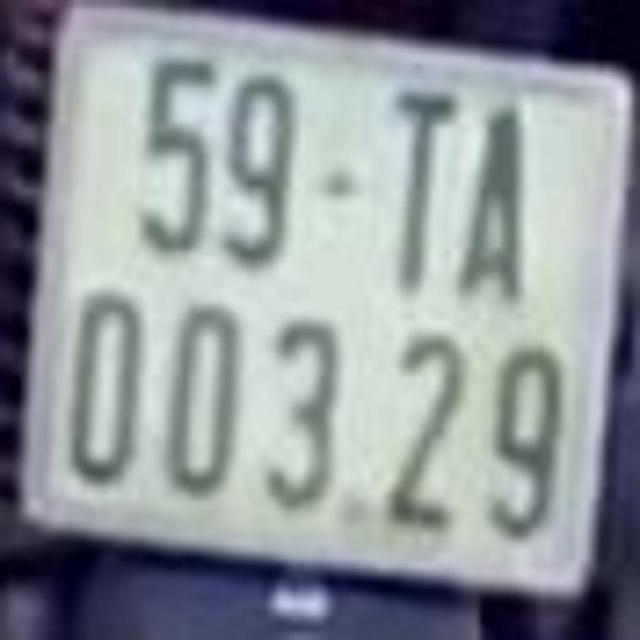0: (161, 297, 238, 498), (69, 285, 141, 482)
2: (377, 327, 466, 531)
3: (264, 308, 340, 502)
5: (136, 50, 212, 253)
9: (488, 341, 564, 546), (223, 66, 297, 264)
A: (462, 98, 533, 304)
T: (389, 85, 455, 298)
